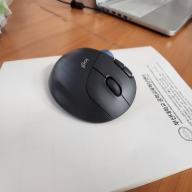mouse: (45, 32, 141, 125)
